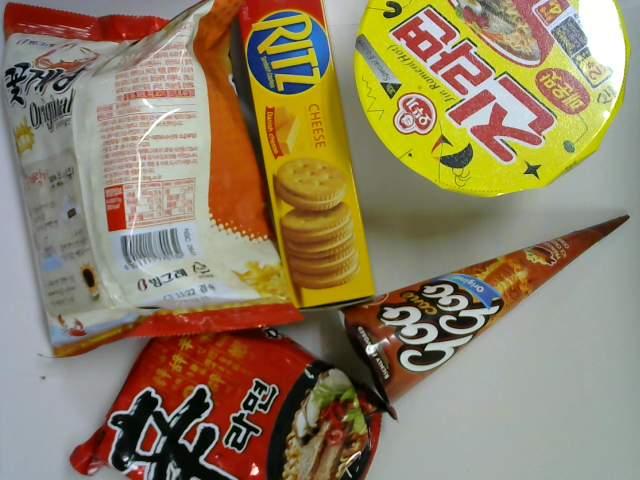Crabrang: (1, 1, 307, 360)
GooGoo_Cone_CVS: (335, 209, 631, 409)
Jinlamyeon_Hot_Taste_Large_Cup: (350, 1, 633, 200)
Ritz_Sand_Cracker: (233, 1, 378, 313)
Sinramen: (68, 327, 397, 480)
